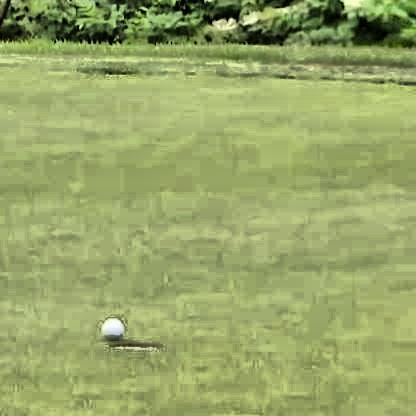golfball: (98, 313, 122, 341)
